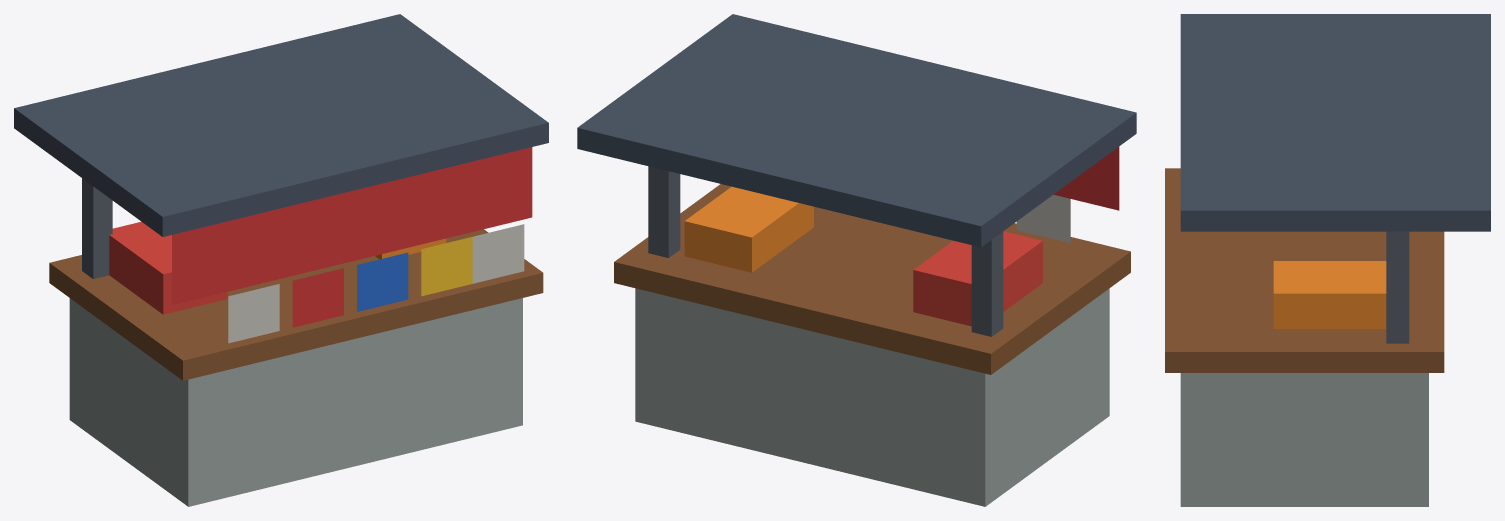
The model's file is newsstand.glb.
3 renders of one model, left to right at view 1: azimuth 30°, elevation 25°; view 2: azimuth 150°, elevation 25°; view 3: azimuth 270°, elevation 25°, orthographic. The views are drawn at different scales.
Parts seen in each view (by area): view 1: newsstand; view 2: newsstand; view 3: newsstand.
Part boxes in pixels (x1,y1,x2,y2): newsstand: [14, 14, 548, 506]; newsstand: [577, 14, 1136, 506]; newsstand: [1165, 14, 1490, 506].
Bounding box in the file's own units: 0.3 × 0.22 × 0.21.
